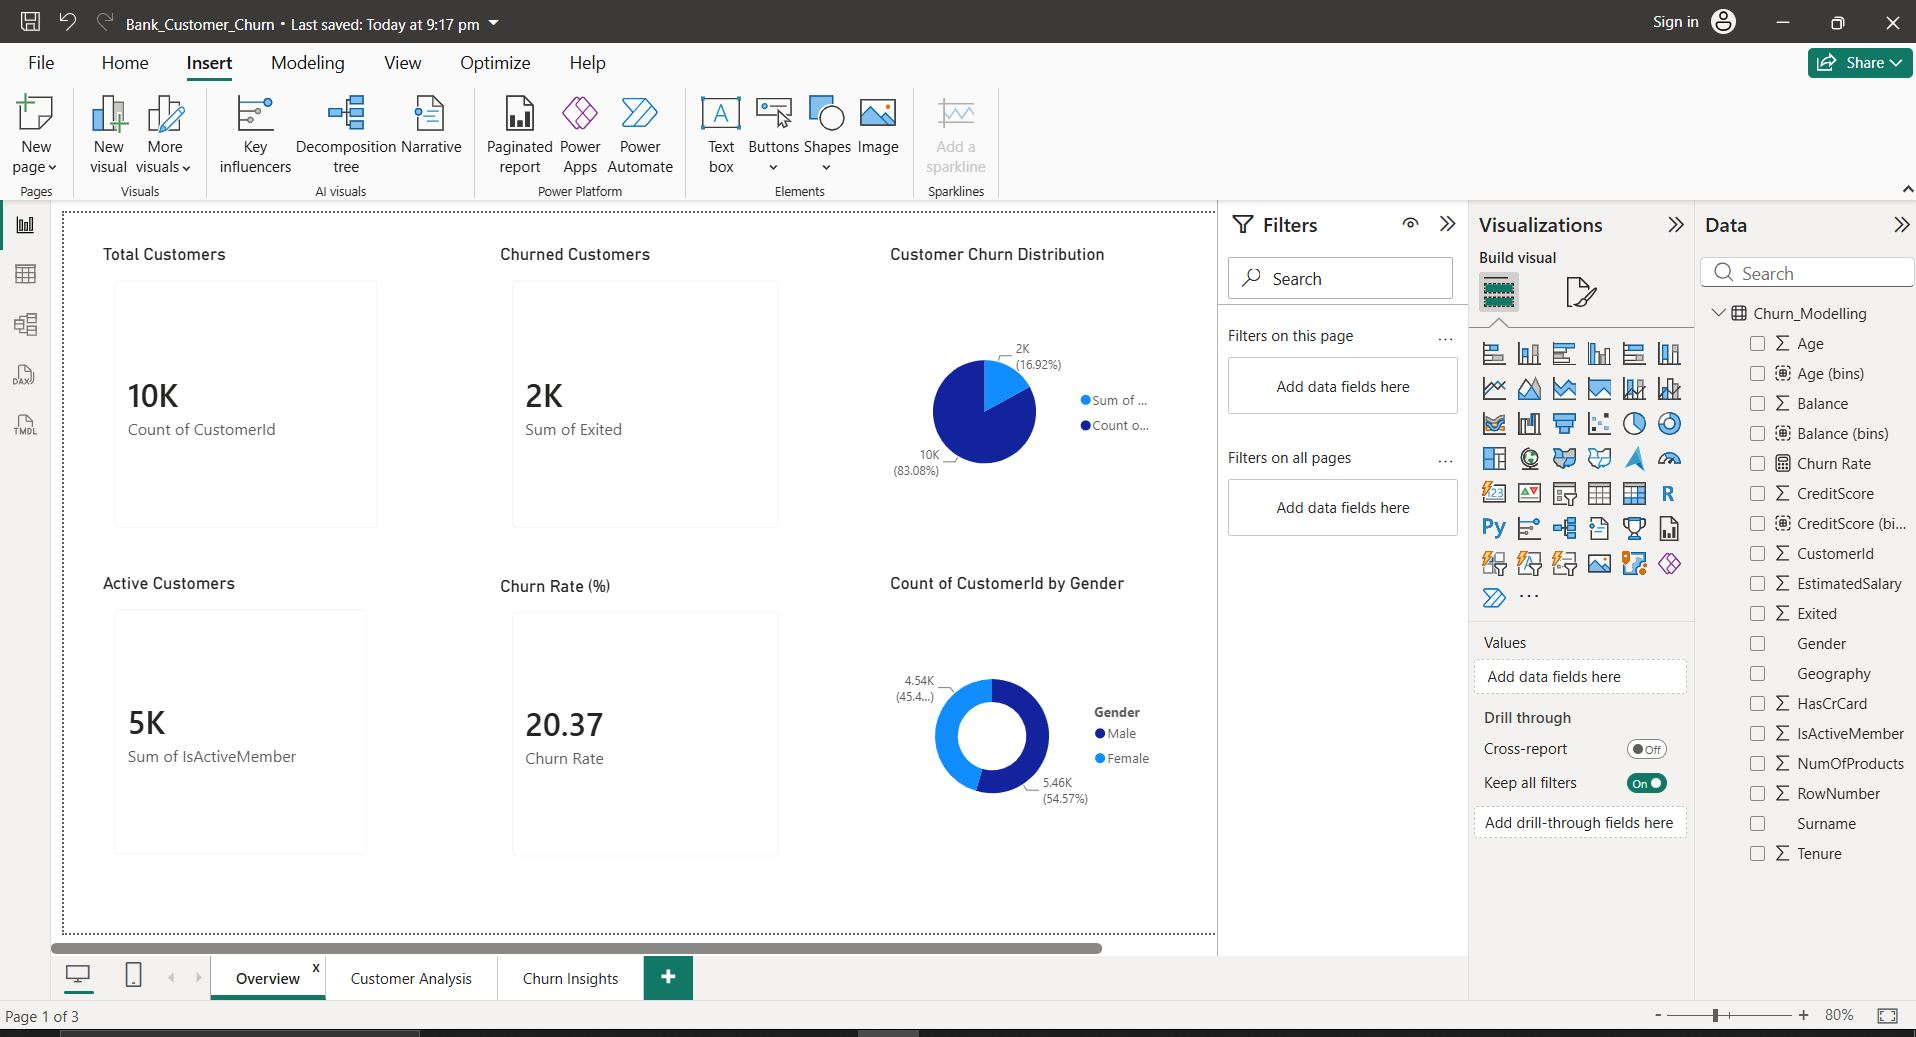

The page's visual inventory and layout, read from the dashboard file:
{"tool":"powerbi","page":{"name":"Overview","canvas":[1280,720],"ordinal":0},"visuals":[{"type":"cardVisual","title":"Total Customers","fields":{"Data":["CountNonNull(Churn_Modelling.CustomerId)"]},"box":[34.3,31.6,297.8,301.9],"z":0},{"type":"cardVisual","title":"Churned Customers","fields":{"Data":["Sum(Churn_Modelling.Exited)"]},"box":[430.9,31.6,301.9,301.9],"z":1000},{"type":"cardVisual","title":"Active Customers","fields":{"Data":["Sum(Churn_Modelling.IsActiveMember)"]},"box":[34.3,359.5,286.8,299.1],"z":2000},{"type":"cardVisual","title":"Churn Rate (%)","fields":{"Data":["Churn_Modelling.Churn Rate"]},"box":[430.9,362.3,301.9,299.1],"z":3000},{"type":"pieChart","title":"Customer Churn Distribution","fields":{"Y":["Sum(Churn_Modelling.Exited)","CountNonNull(Churn_Modelling.CustomerId)"]},"box":[821.2,31.2,280,316.2],"z":4000},{"type":"donutChart","fields":{"Category":["Churn_Modelling.Gender"],"Y":["CountNonNull(Churn_Modelling.CustomerId)"]},"box":[821.2,360,280,307.5],"z":5000}]}

Visuals, with their boxes on the page's 1280x720 design canvas (x1, y1, x2, y2). These are canvas units, not pixel positions in the 1916x1037 screenshot, which may show the page scaled, cropped or inside an application window:
"Total Customers" cardVisual: bbox=[34, 32, 332, 334]
"Churned Customers" cardVisual: bbox=[431, 32, 733, 334]
"Active Customers" cardVisual: bbox=[34, 360, 321, 659]
"Churn Rate (%)" cardVisual: bbox=[431, 362, 733, 661]
"Customer Churn Distribution" pieChart: bbox=[821, 31, 1101, 347]
donutChart - Churn_Modelling.Gender x CountNonNull(Churn_Modelling.CustomerId): bbox=[821, 360, 1101, 668]
